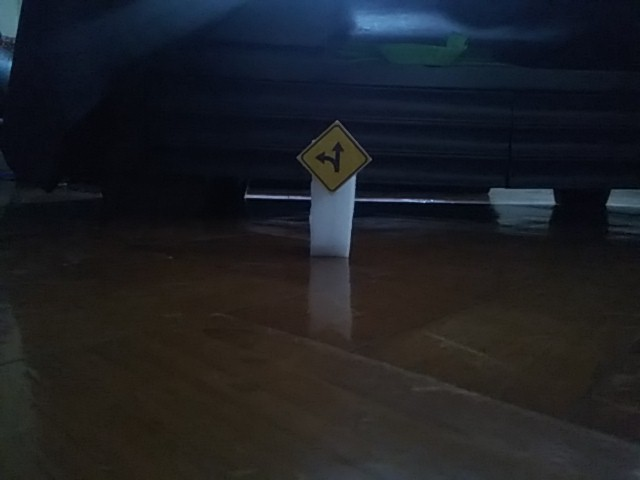Straight Or Left Sign: (299, 122, 370, 194)
